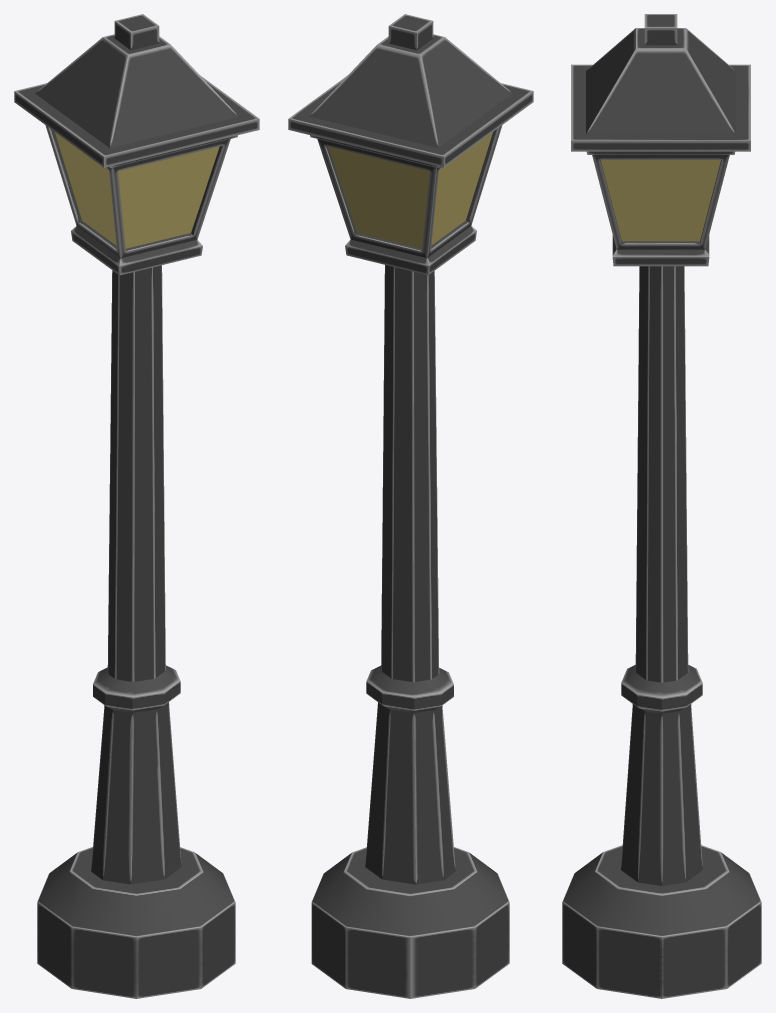
The model's file is Gas_Lamp.fbx.
The picture shows the model from 3 angles, left to right: view 1: azimuth 30°, elevation 25°; view 2: azimuth 150°, elevation 25°; view 3: azimuth 270°, elevation 25°; orthographic projection.
Visible parts, largest first — view 1: Gas_Lamp1; view 2: Gas_Lamp1; view 3: Gas_Lamp1.
Boxes of the visible parts, <box> form: Gas_Lamp1: <box>14,14,259,998</box>; Gas_Lamp1: <box>288,14,533,998</box>; Gas_Lamp1: <box>562,14,761,998</box>.
Bounding box in the file's own units: 103 × 545 × 105.
